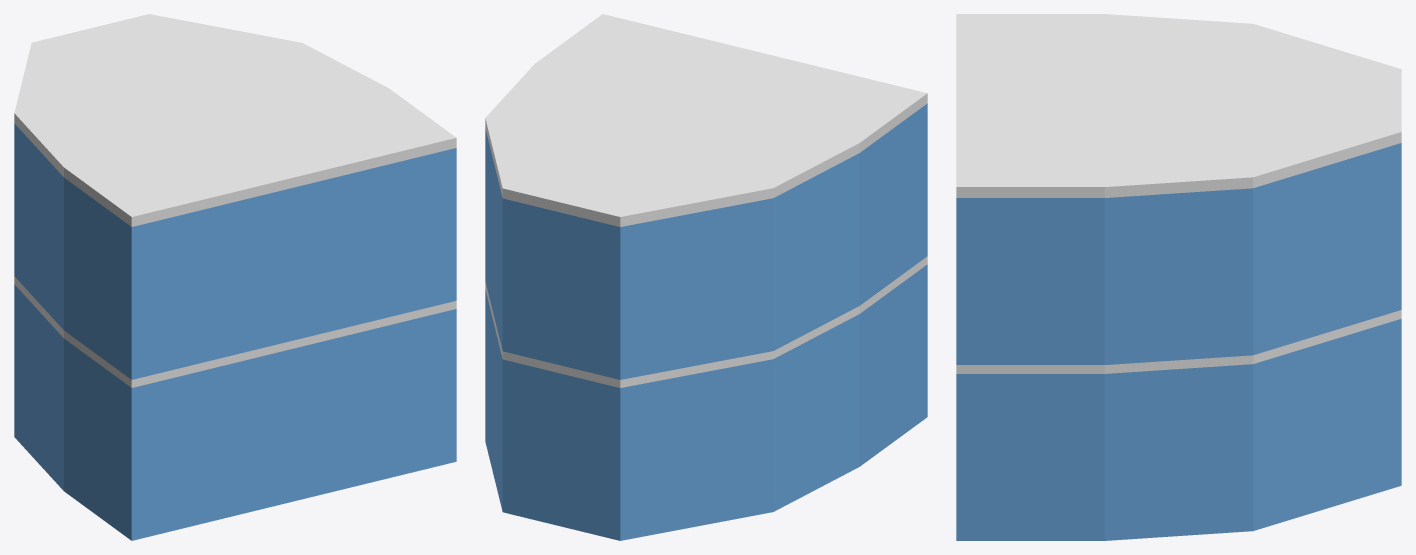
Rendered from building_1x1_11_f.glb.
3 views of the same model, side by side, from view 1: azimuth 30°, elevation 25°; view 2: azimuth 150°, elevation 25°; view 3: azimuth 270°, elevation 25° (orthographic). The views are drawn at different scales.
Parts seen in each view (by area): view 1: Cube.001; view 2: Cube.001; view 3: Cube.001.
Boxes of the visible parts, left/top/right/bottom form: Cube.001: left=14, top=14, right=456, bottom=540; Cube.001: left=485, top=14, right=927, bottom=540; Cube.001: left=956, top=14, right=1401, bottom=540.
Size of the model in its own units: 1.68 by 1.6 by 1.82.
